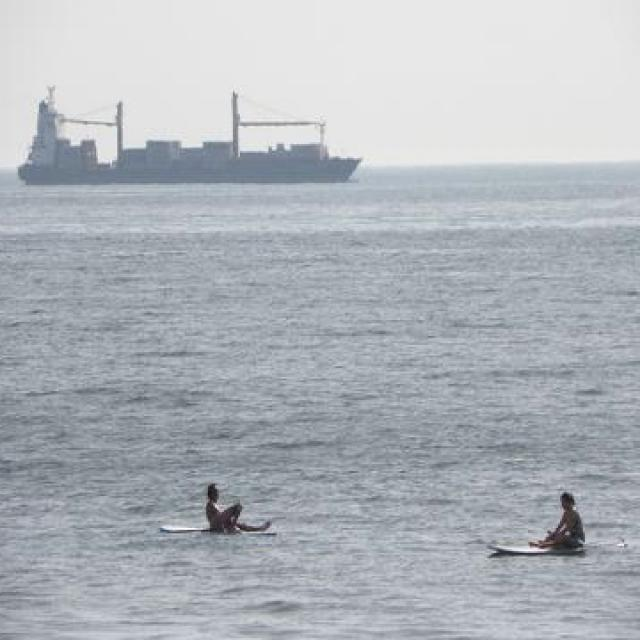ship: (9, 77, 361, 186)
